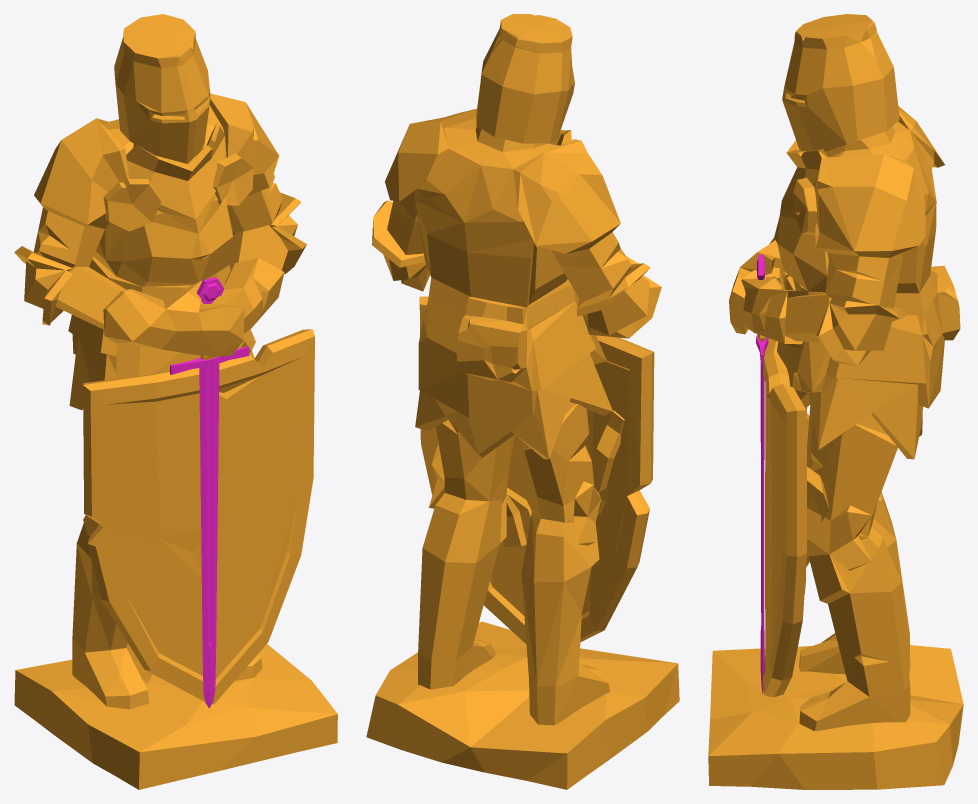
Rendered from SM_Statue_Knight_Protector_Fantasy.fbx.
3 renders of one model, left to right at view 1: azimuth 30°, elevation 25°; view 2: azimuth 150°, elevation 25°; view 3: azimuth 270°, elevation 25°, orthographic.
Parts seen in each view (by area): view 1: SM_Statue_Knight_Protector_Fantasy; view 2: SM_Statue_Knight_Protector_Fantasy; view 3: SM_Statue_Knight_Protector_Fantasy.
Part boxes in pixels (x1,y1,x2,y2): SM_Statue_Knight_Protector_Fantasy: (14, 14, 337, 789); SM_Statue_Knight_Protector_Fantasy: (366, 14, 679, 789); SM_Statue_Knight_Protector_Fantasy: (708, 14, 963, 789).
Size of the model in its own units: 0.7711 by 1.91 by 0.6228.
